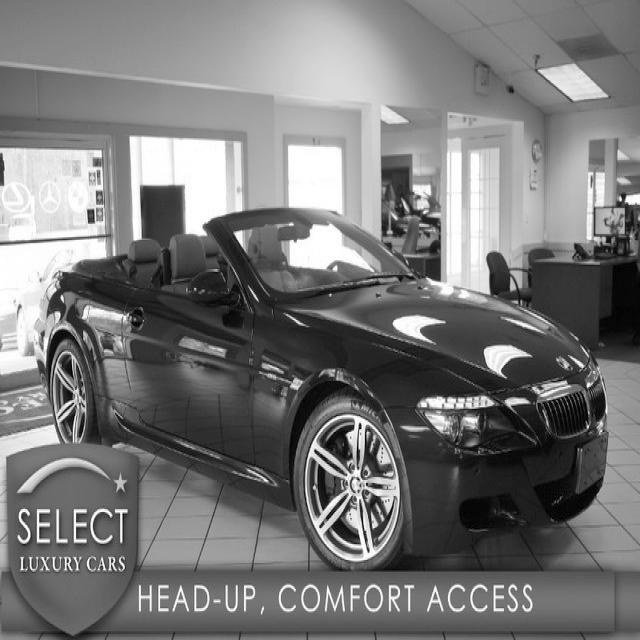car: (32, 204, 609, 572), (15, 246, 75, 356)
